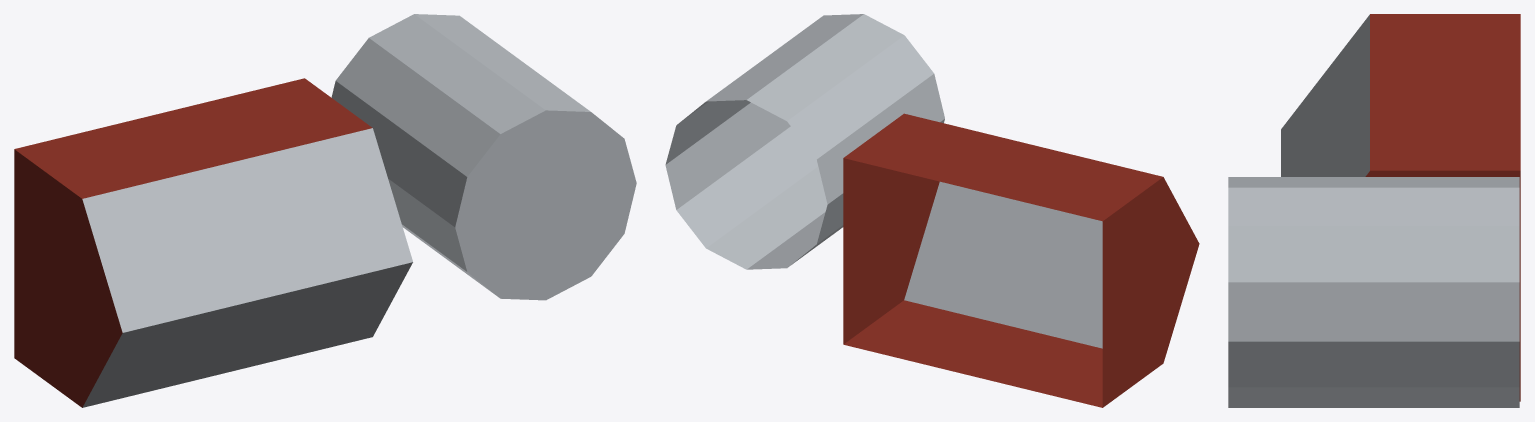
File: island_bldg_13_07.obj
3 views of the same model, side by side, from view 1: azimuth 30°, elevation 25°; view 2: azimuth 150°, elevation 25°; view 3: azimuth 270°, elevation 25° (orthographic). The views are drawn at different scales.
Visible parts, largest first — view 1: island_bldg_13_07; view 2: island_bldg_13_07; view 3: island_bldg_13_07.
Boxes of the visible parts, <box> form: island_bldg_13_07: <box>14,14,636,407</box>; island_bldg_13_07: <box>665,14,1199,407</box>; island_bldg_13_07: <box>1228,14,1520,407</box>.
Bounding box in the file's own units: 54 × 26 × 25.22.
